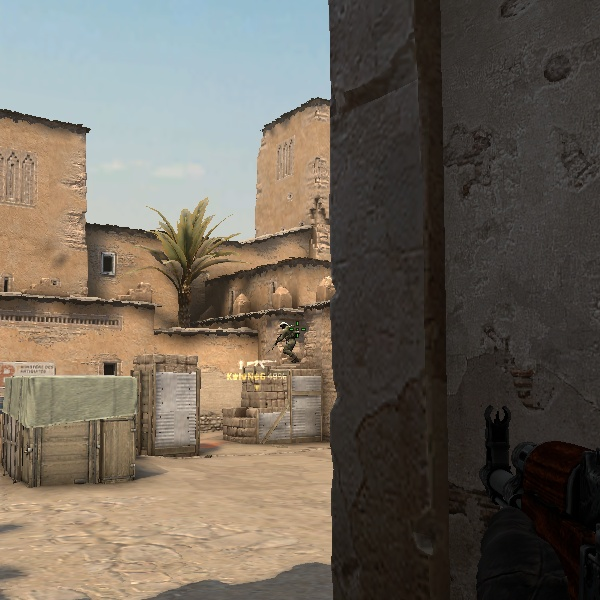ct_body: (276, 322, 296, 361)
ct_head: (280, 322, 288, 329)
